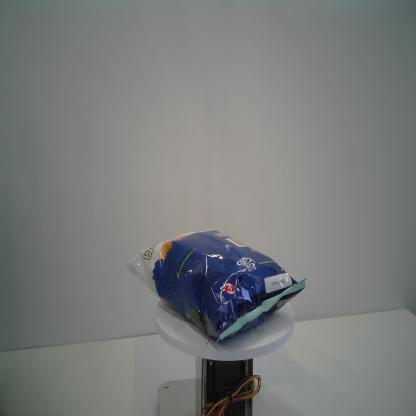Puffed Food: (122, 229, 307, 344)
